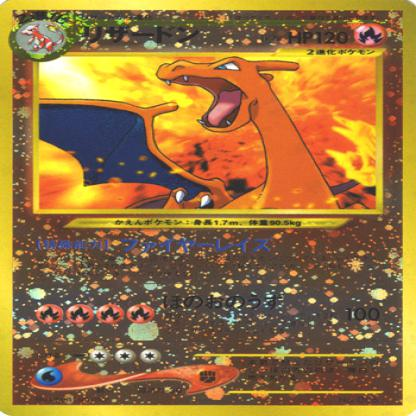Squirtle: (46, 57, 358, 210)
